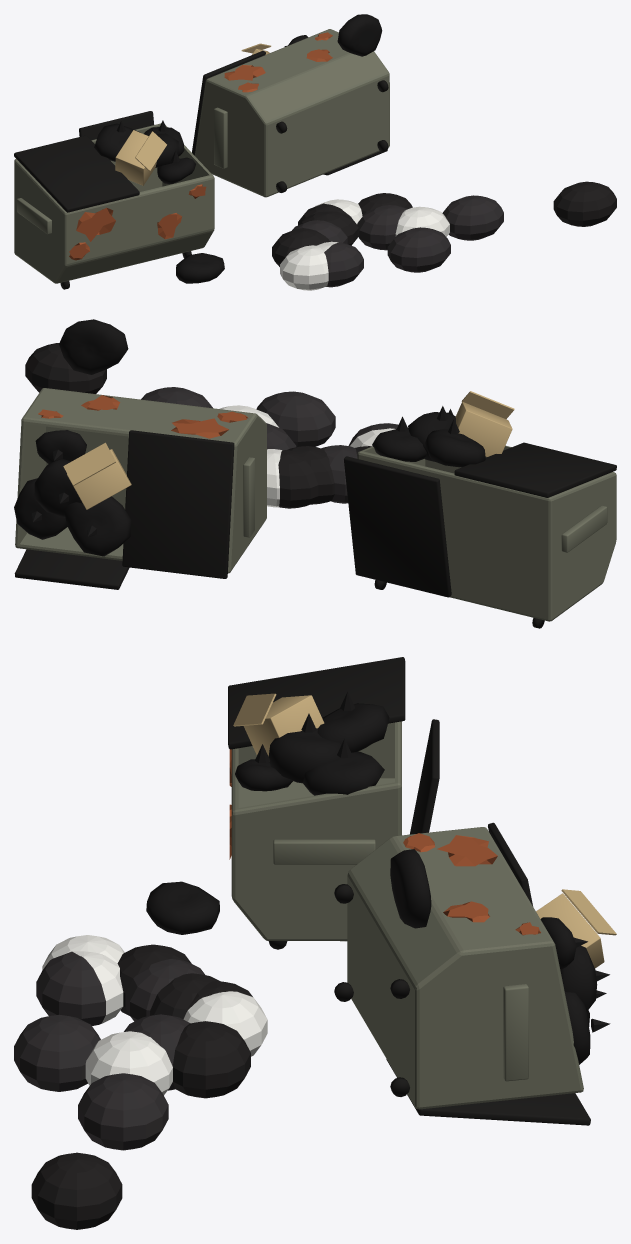
File: downtown_dumpsters.glb
3 renders of one model, top to bottom at view 1: azimuth 30°, elevation 25°; view 2: azimuth 150°, elevation 25°; view 3: azimuth 270°, elevation 25°, orthographic. The views are drawn at different scales.
Visible parts, largest first — view 1: downtown_dumpsters; view 2: downtown_dumpsters; view 3: downtown_dumpsters.
Boxes of the visible parts, x1,y1,x2,y2 form: downtown_dumpsters: [14, 14, 616, 290]; downtown_dumpsters: [14, 319, 616, 628]; downtown_dumpsters: [14, 657, 616, 1229].
Size of the model in its own units: 6.23 by 1.92 by 3.9.
